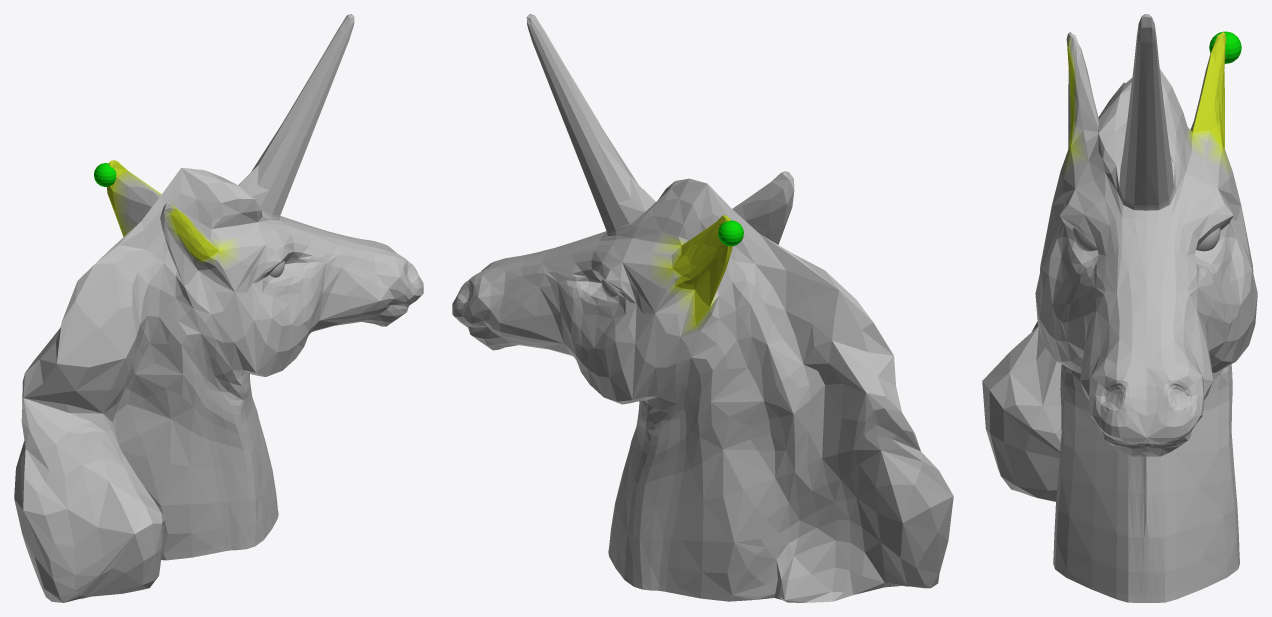
The model's file is unicorn_nbb.glb.
The picture shows the model from 3 angles, left to right: view 1: azimuth 30°, elevation 25°; view 2: azimuth 150°, elevation 25°; view 3: azimuth 270°, elevation 25°; orthographic projection. The views are drawn at different scales.
Size of the model in its own units: 1.42 by 1.51 by 0.5923.
